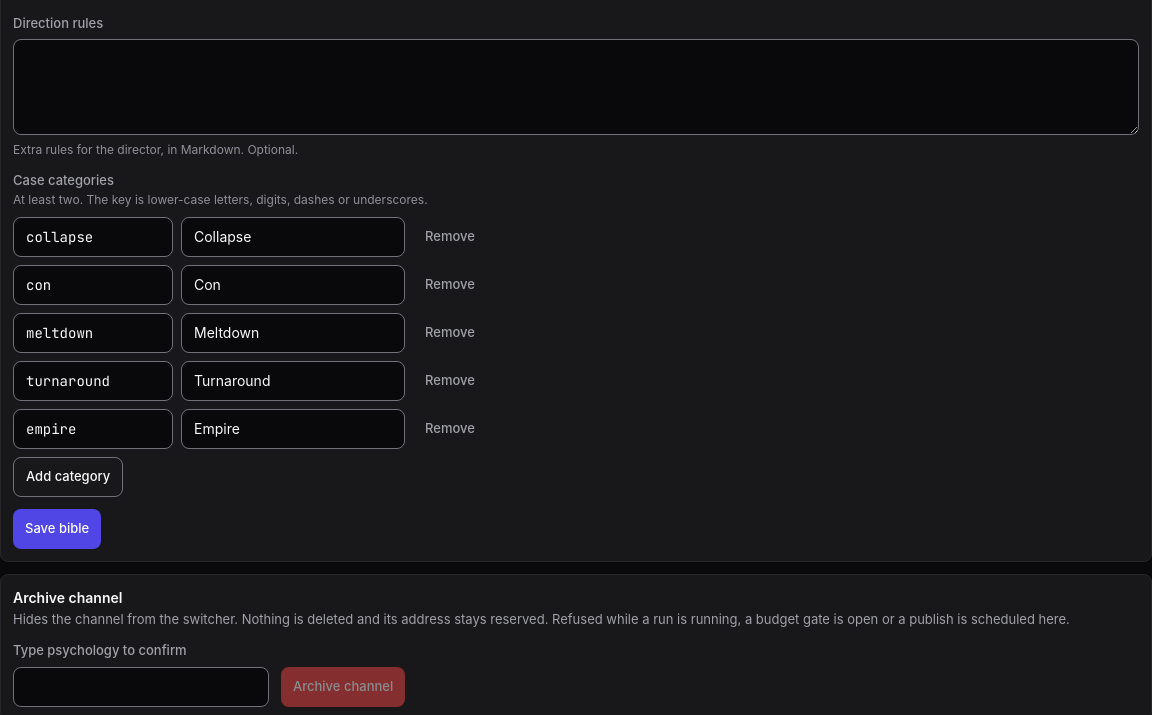
Test: ChannelTab › adds and removes category rows with labelled buttons
(page scrolled)
Check: the number of buttons named "Remove category" is 5, box [413,216,487,256]; [413,264,487,304]; [413,312,487,352]; [413,360,487,400]; [413,408,487,448]
Step 1. Click the button "Add category" → {"x": 68, "y": 476}, box [13,456,123,496]
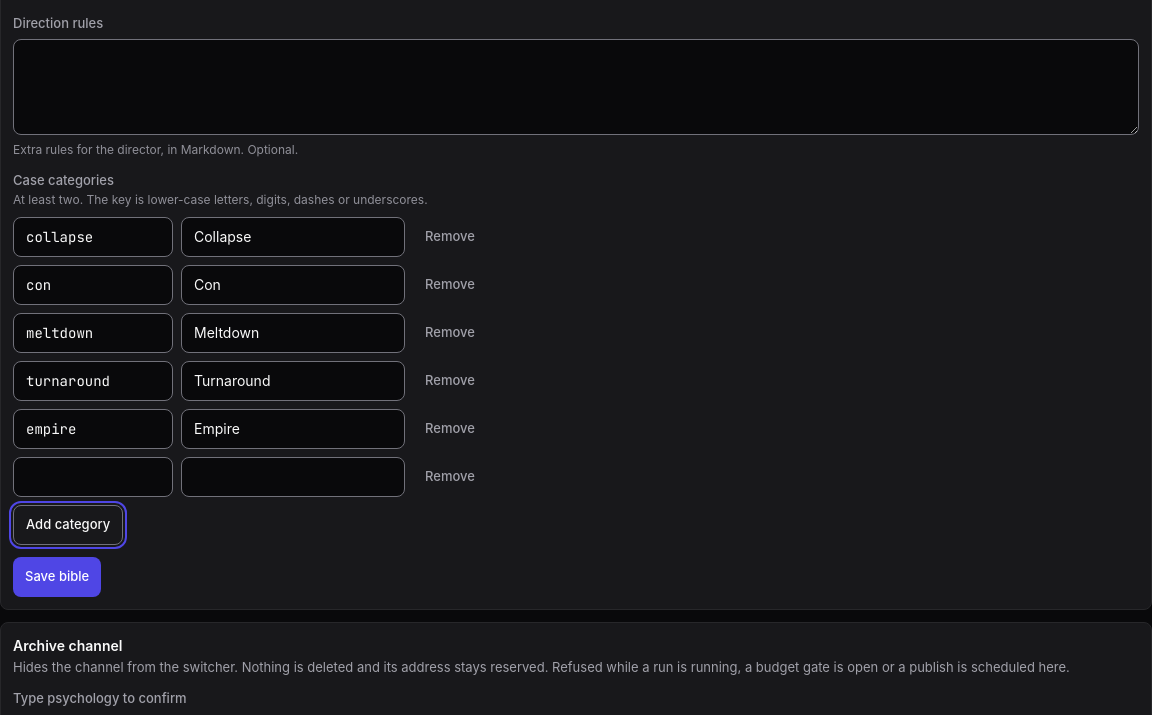
Check: the number of buttons named "Remove category" is 6
Step 2. Click the button with aria-label "Remove category" → {"x": 450, "y": 236}, box [413,216,487,256]
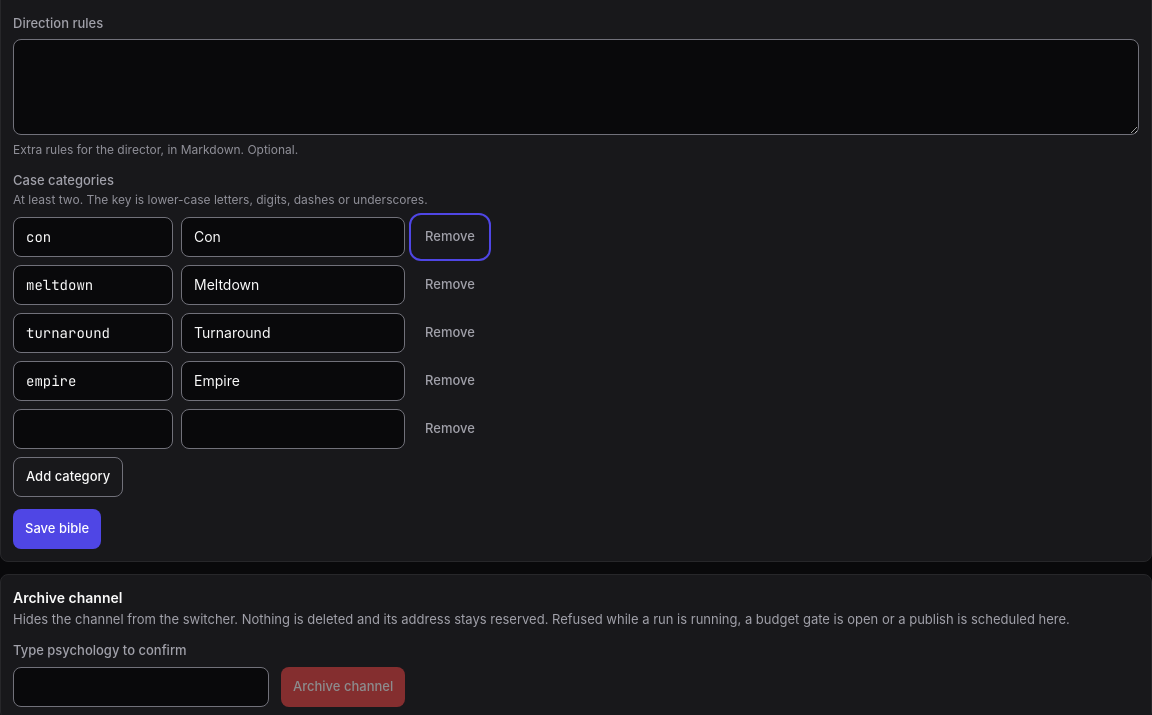
Check: the number of buttons named "Remove category" is 5, box [413,216,487,256]; [413,264,487,304]; [413,312,487,352]; [413,360,487,400]; [413,408,487,448]
